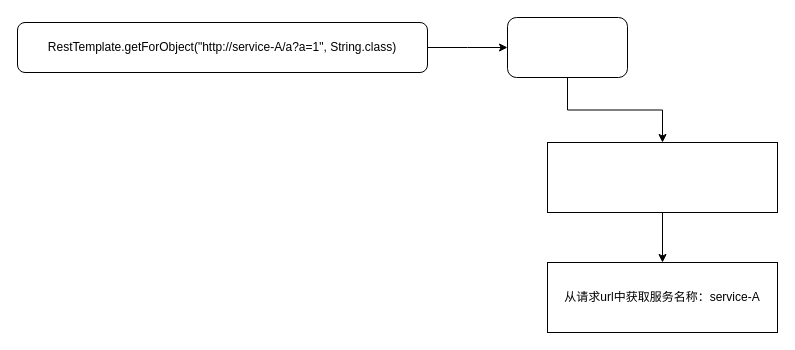
Image size: 795x350. Some labels were removed from this diagram. The shapes that lost their labels are listed below. From the top down, each one's box as (x1, y1, x2, y2) in pixels, then its label:
(506, 16, 628, 78): HttpRequest
(546, 142, 778, 212): LoadBalancedInterceptor.intercept()方法
